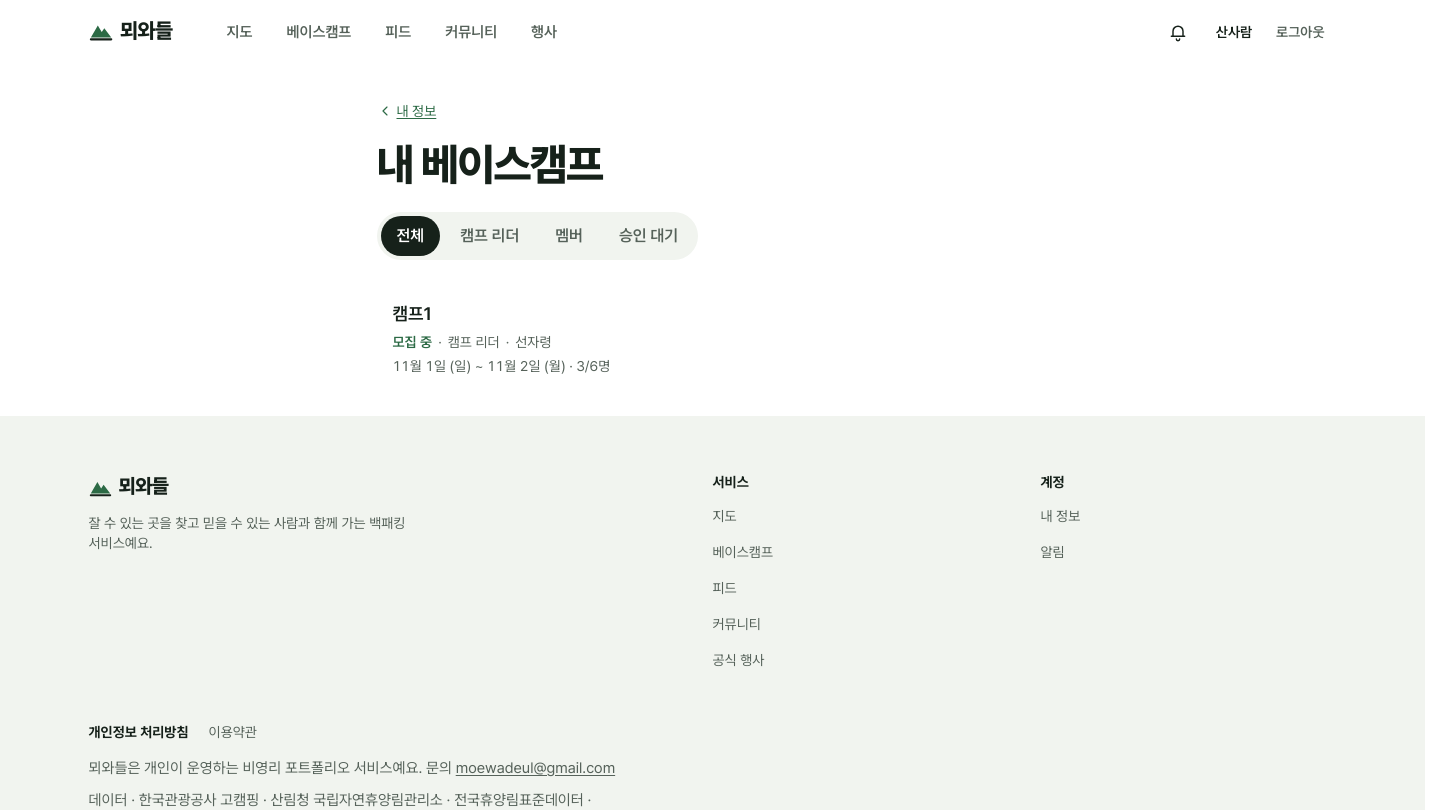
Test: 내 베이스캠프 화면 › 역할 탭을 누르면 그 역할로 다시 불러오고 카드에는 역할을 다시 적지 않으며, 결과가 없으면 해당하는 베이스캠프가 없다고 알린다
The image size is (1440, 810).
Expected: the link to "/basecamps/1" shows "캠프 리더", [392,303,610,374]
Click the button "캠프 리더" at (490, 236), box [444,216,535,256]
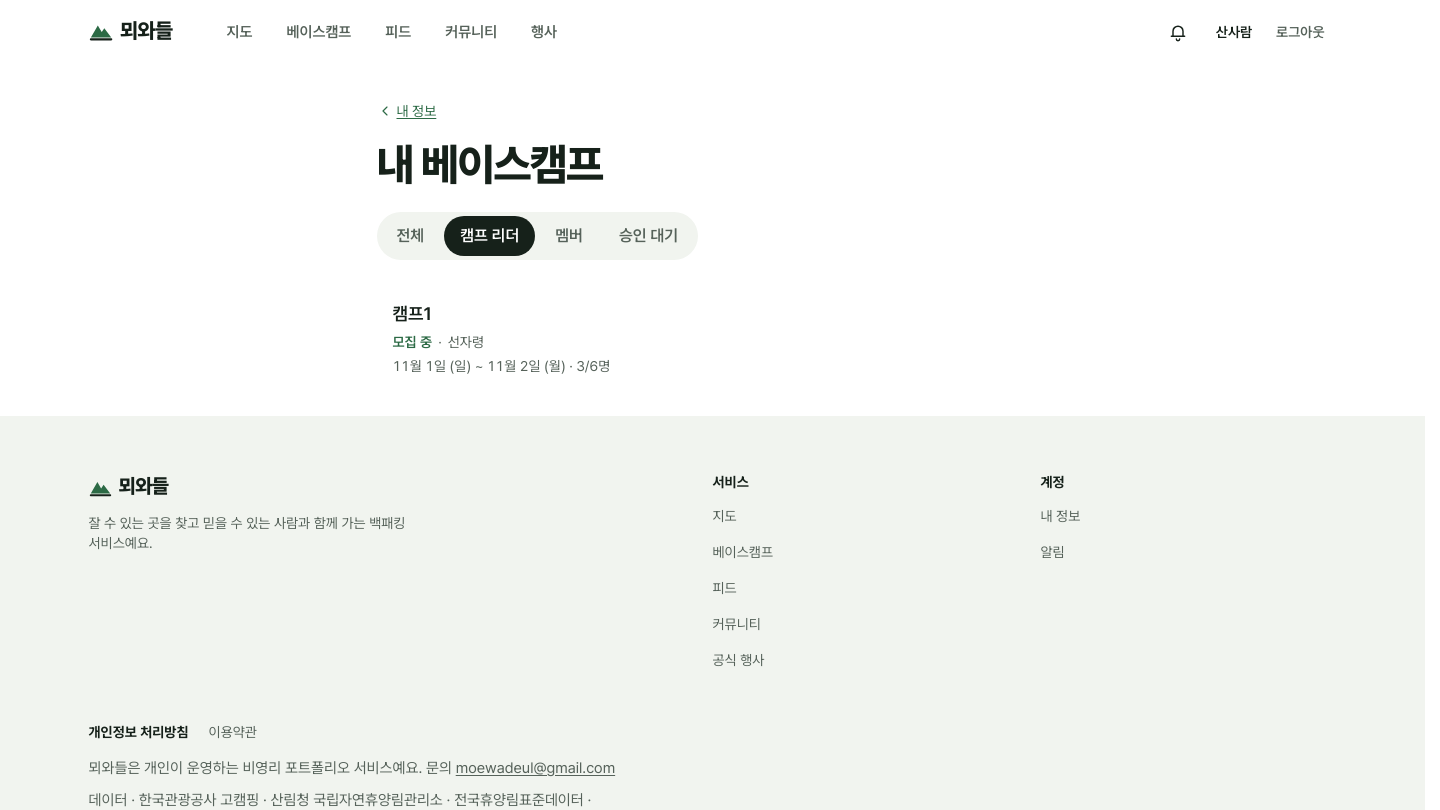
Expected: the element to "/basecamps/1" does not show "캠프 리더"
Click the button "멤버" at (569, 236), box [539,216,599,256]
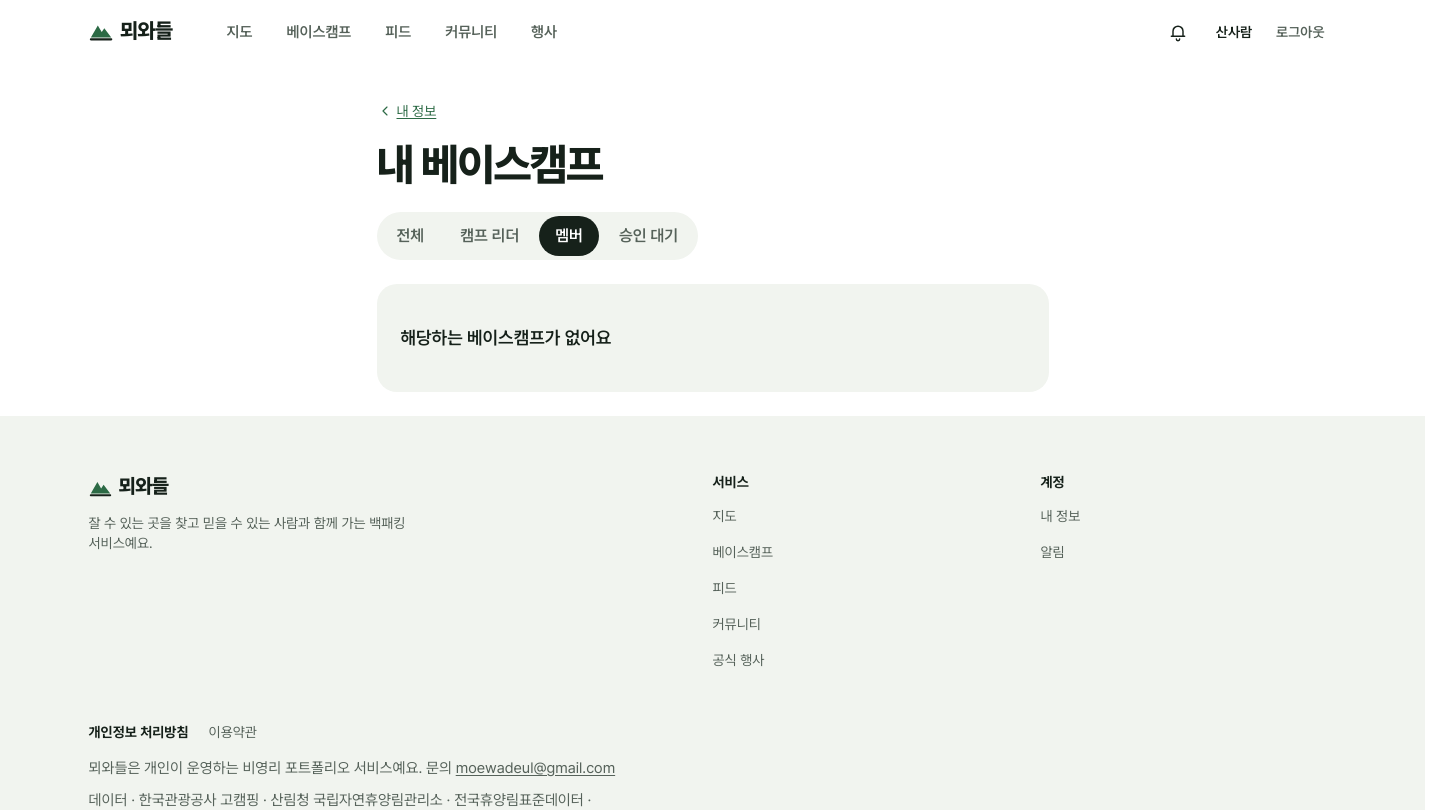
Result: the text "해당하는 베이스캠프가 없어요" is shown at [400,324,611,352]
